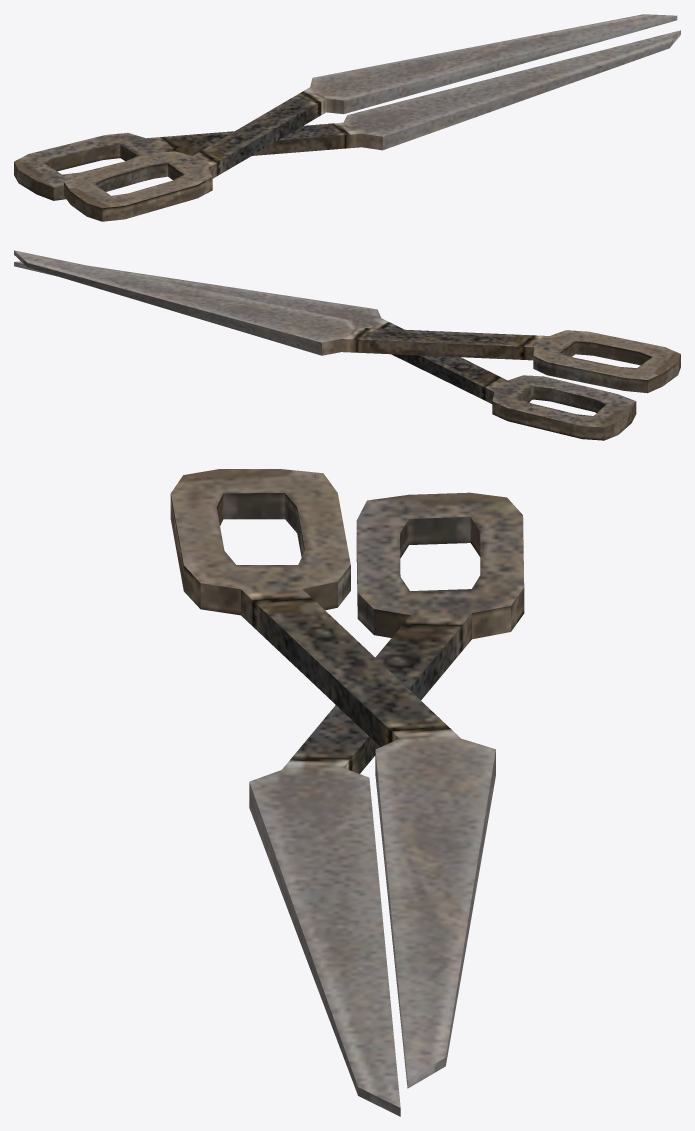
The model's file is scissors.DAE.
The picture shows the model from 3 angles, top to bottom: view 1: azimuth 30°, elevation 25°; view 2: azimuth 150°, elevation 25°; view 3: azimuth 270°, elevation 25°; orthographic projection. The views are drawn at different scales.
Parts seen in each view (by area): view 1: Box003; view 2: Box003; view 3: Box003.
Boxes of the visible parts, x1=… form: Box003: x1=14, y1=14, x2=680, y2=221; Box003: x1=14, y1=250, x2=680, y2=440; Box003: x1=170, y1=469, x2=524, y2=1116.
Size of the model in its own units: 0.2183 by 0.00883 by 0.0537.
